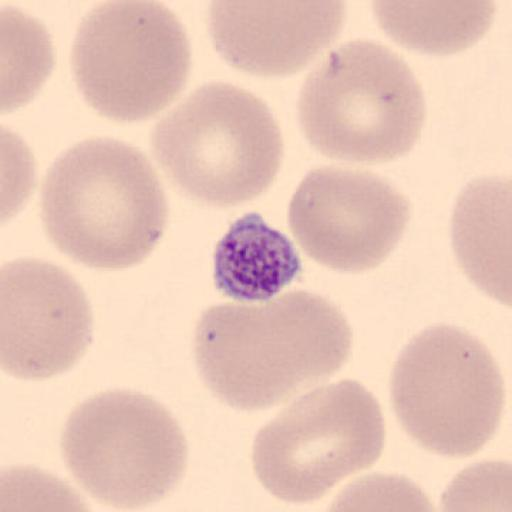Platelet: (208, 210, 306, 305)
RBC: (191, 290, 354, 414), (249, 378, 391, 506), (149, 79, 286, 210), (39, 134, 169, 271), (294, 36, 428, 166), (57, 385, 190, 512), (388, 322, 506, 460), (68, 0, 194, 126), (284, 163, 412, 276), (3, 255, 95, 383), (204, 0, 349, 79), (448, 171, 512, 309), (362, 0, 498, 55), (1, 5, 57, 115), (310, 469, 441, 512), (1, 462, 99, 512), (438, 457, 512, 512), (1, 123, 37, 227)
